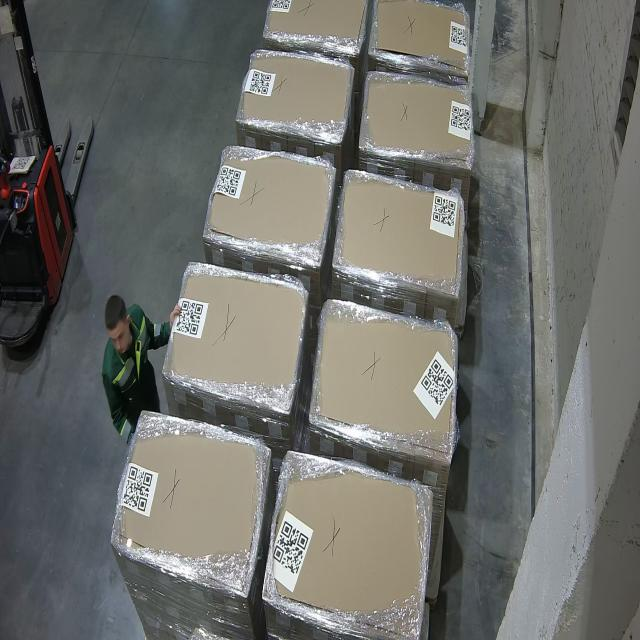pallet: (262, 449, 432, 640), (108, 418, 270, 610), (311, 298, 462, 459), (162, 260, 312, 420), (332, 169, 468, 300), (205, 144, 337, 270), (236, 48, 354, 146), (359, 72, 474, 172), (370, 0, 470, 82), (260, 0, 372, 55)
